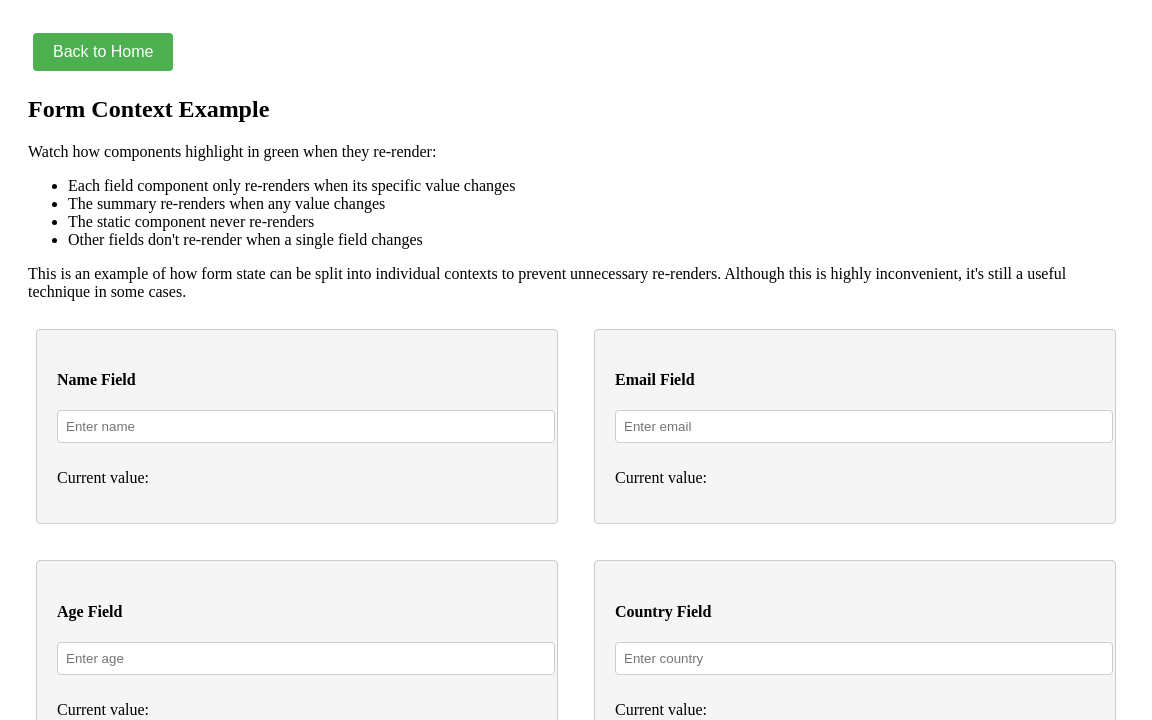
Test: FormContextExample › updates form summary when fields change
The width and height of the screenshot is (1152, 720).
Type "John Doe" into the field with placeholder "Enter name".
click(306, 427); type("John Doe")  # box [57,410,555,443]
(page scrolled)
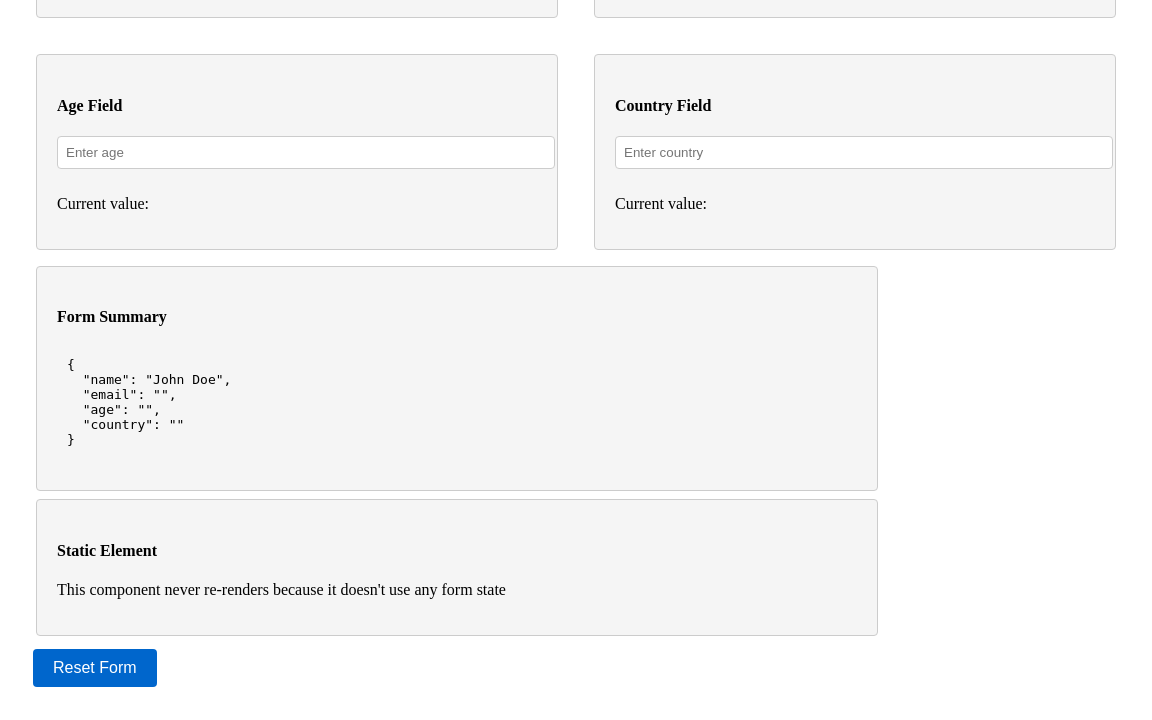
expect the element "Form Summary" shows "John Doe": met, box [67,357,231,447]
